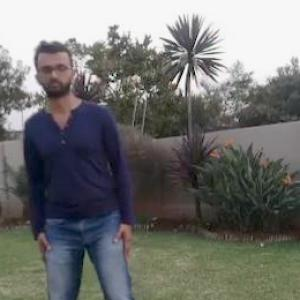follow: (20, 31, 137, 299)
